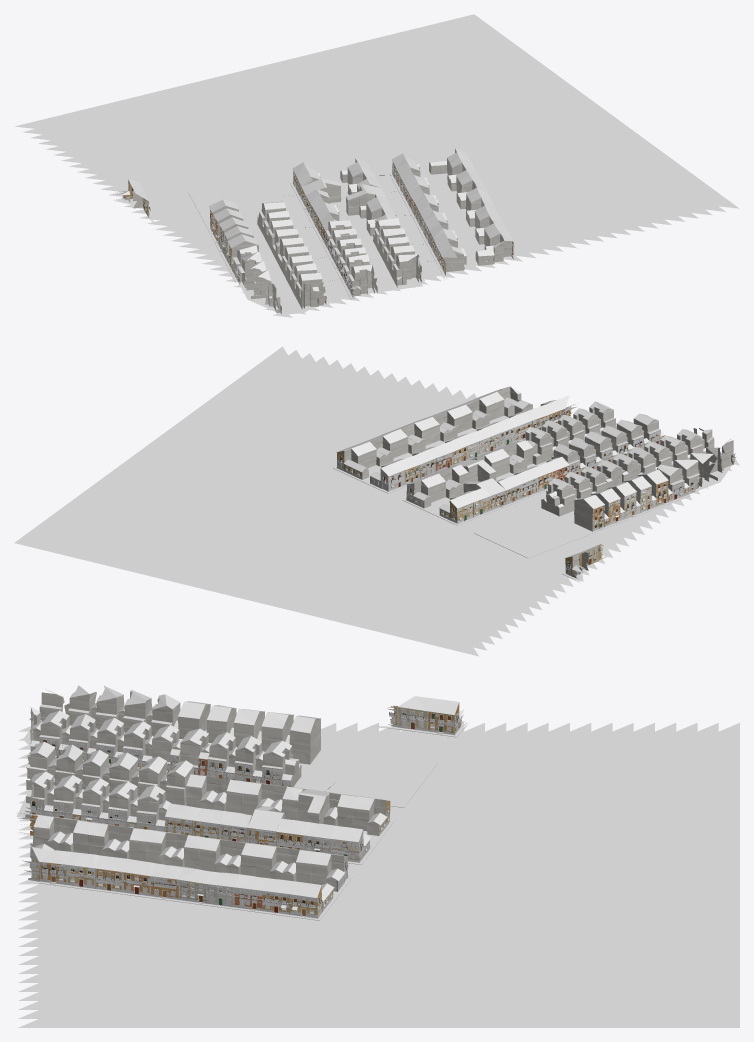
File: zona_1_1.glb
The picture shows the model from 3 angles, top to bottom: view 1: azimuth 30°, elevation 25°; view 2: azimuth 150°, elevation 25°; view 3: azimuth 270°, elevation 25°; orthographic projection. The views are drawn at different scales.
Visible parts, largest first — view 1: z_calle_1_1, z_tejados_1_1, z_casas_1_1, z_fachadas_1_1, z_casas_planas_1_1, z_suelo_1_1; view 2: z_calle_1_1, z_casas_1_1, z_tejados_1_1, z_fachadas_1_1, z_casas_planas_1_1, z_suelo_1_1; view 3: z_calle_1_1, z_casas_1_1, z_tejados_1_1, z_fachadas_1_1, z_casas_planas_1_1.
Part boxes in pixels (x1,y1,x2,y2): z_calle_1_1: [14, 14, 739, 317]; z_tejados_1_1: [117, 148, 512, 297]; z_casas_1_1: [123, 149, 513, 311]; z_fachadas_1_1: [117, 162, 514, 311]; z_casas_planas_1_1: [233, 211, 421, 314]; z_suelo_1_1: [268, 173, 441, 304]; z_calle_1_1: [14, 346, 739, 656]; z_casas_1_1: [337, 387, 733, 576]; z_tejados_1_1: [336, 386, 733, 572]; z_fachadas_1_1: [336, 389, 735, 578]; z_casas_planas_1_1: [523, 418, 735, 514]; z_suelo_1_1: [386, 463, 546, 532]; z_calle_1_1: [16, 721, 739, 1027]; z_casas_1_1: [27, 692, 459, 917]; z_tejados_1_1: [20, 685, 464, 902]; z_fachadas_1_1: [16, 705, 463, 918]; z_casas_planas_1_1: [25, 704, 299, 830].
Size of the model in its own units: 205 by 12.2 by 205.
